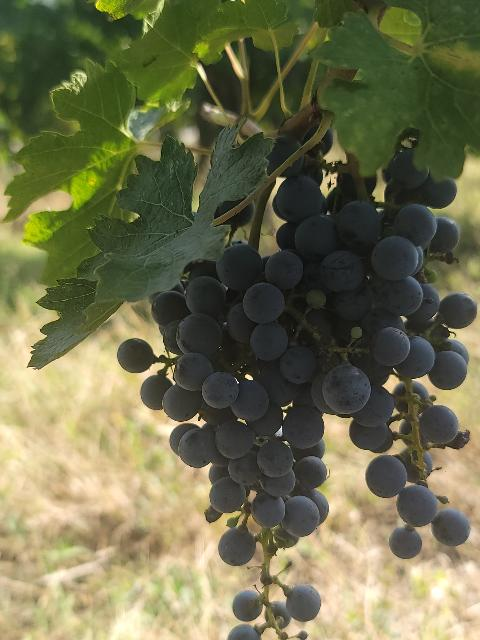grapes: (276, 150, 478, 559), (118, 242, 329, 595)
